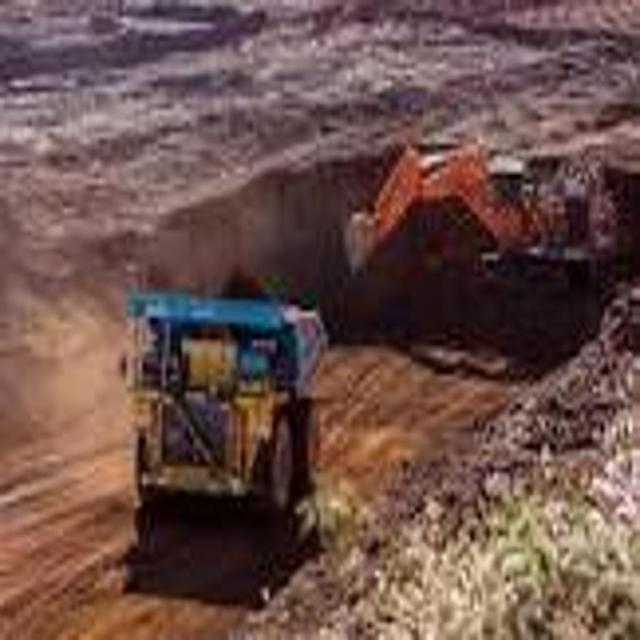dump_truck: (124, 239, 337, 539)
